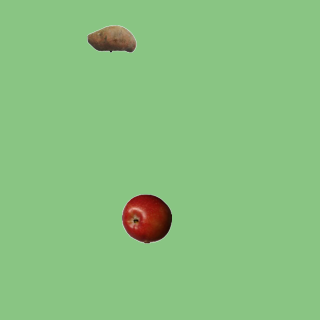Apple Braeburn: (121, 193, 171, 243)
Potato Sweet: (86, 13, 136, 63)
